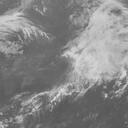cyclone: (75, 7, 126, 80)
